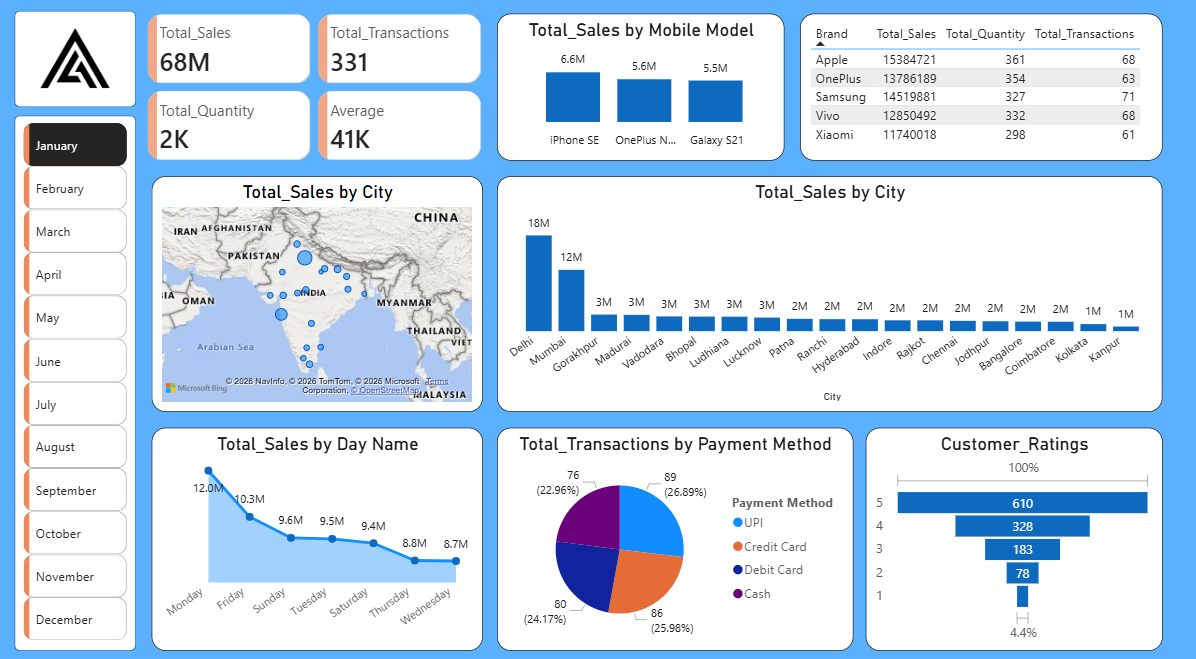

Layout of this report page (visuals, bound fields, positions):
{"tool":"powerbi","page":{"name":"Page 1","canvas":[1280,720],"ordinal":0},"visuals":[{"type":"shape","box":[18.3,13.3,130,103.3],"z":0},{"type":"image","box":[26.7,0,113.3,128.3],"z":1000},{"type":"shape","box":[18.3,125,130,571.7],"z":2000},{"type":"advancedSlicerVisual","fields":{"Values":["Sheet1.Date.Variation.Date Hierarchy.Month"]},"box":[23.3,128.3,120,570],"z":3000},{"type":"cardVisual","fields":{"Data":["Sales_Data.Total_Sales","Sales_Data.Total_Transactions","Sales_Data.Total_Quantity","Sales_Data.Average"]},"box":[143.3,0,390,190],"z":4000},{"type":"map","fields":{"Category":["Sales_Data.City"],"Size":["Sales_Data.Total_Sales"]},"box":[165,190,353.3,251.7],"z":5000},{"type":"clusteredColumnChart","title":"Total_Sales by Mobile Model","fields":{"Category":["Sales_Data.Mobile Model"],"Y":["Sales_Data.Total_Sales"]},"box":[533.3,16.7,306.7,156.7],"z":6000},{"type":"columnChart","fields":{"Category":["Sales_Data.City"],"Y":["Sales_Data.Total_Sales"]},"box":[533.3,190,710,251.7],"z":7000},{"type":"pieChart","fields":{"Y":["Sales_Data.Total_Transactions"],"Category":["Sales_Data.Payment Method"]},"box":[533.3,458.3,380,238.3],"z":8000},{"type":"funnel","title":"Customer_Ratings","fields":{"Category":["Sales_Data.Customer Ratings"],"Y":["Sum(Sales_Data.Customer Ratings)"]},"box":[926.7,458.3,316.7,238.3],"z":8001},{"type":"areaChart","fields":{"Category":["Sales_Data.Day Name"],"Y":["Sales_Data.Total_Sales"]},"box":[165,458.3,353.3,238.3],"z":8002},{"type":"tableEx","fields":{"Values":["Sales_Data.Brand","Sales_Data.Total_Sales","Sales_Data.Total_Quantity","Sales_Data.Total_Transactions"]},"box":[856.7,16.7,386.7,156.7],"z":8003}]}

Visuals, with their boxes in screenshot pixels (x1, y1, x2, y2), scaled from the page's 1280x720 canvas onto the 1196x659 screenshot:
shape: select_region(17, 12, 139, 107)
image: select_region(25, 0, 131, 117)
shape: select_region(17, 114, 139, 638)
advancedSlicerVisual - Sheet1.Date.Variation.Date Hierarchy.Month: select_region(22, 117, 134, 639)
cardVisual - Sales_Data.Total_Sales x Sales_Data.Total_Transactions: select_region(134, 0, 498, 174)
map - Sales_Data.City x Sales_Data.Total_Sales: select_region(154, 174, 484, 404)
"Total_Sales by Mobile Model" clusteredColumnChart: select_region(498, 15, 785, 159)
columnChart - Sales_Data.City x Sales_Data.Total_Sales: select_region(498, 174, 1162, 404)
pieChart - Sales_Data.Total_Transactions x Sales_Data.Payment Method: select_region(498, 419, 853, 638)
"Customer_Ratings" funnel: select_region(866, 419, 1162, 638)
areaChart - Sales_Data.Day Name x Sales_Data.Total_Sales: select_region(154, 419, 484, 638)
tableEx - Sales_Data.Brand x Sales_Data.Total_Sales: select_region(800, 15, 1162, 159)
